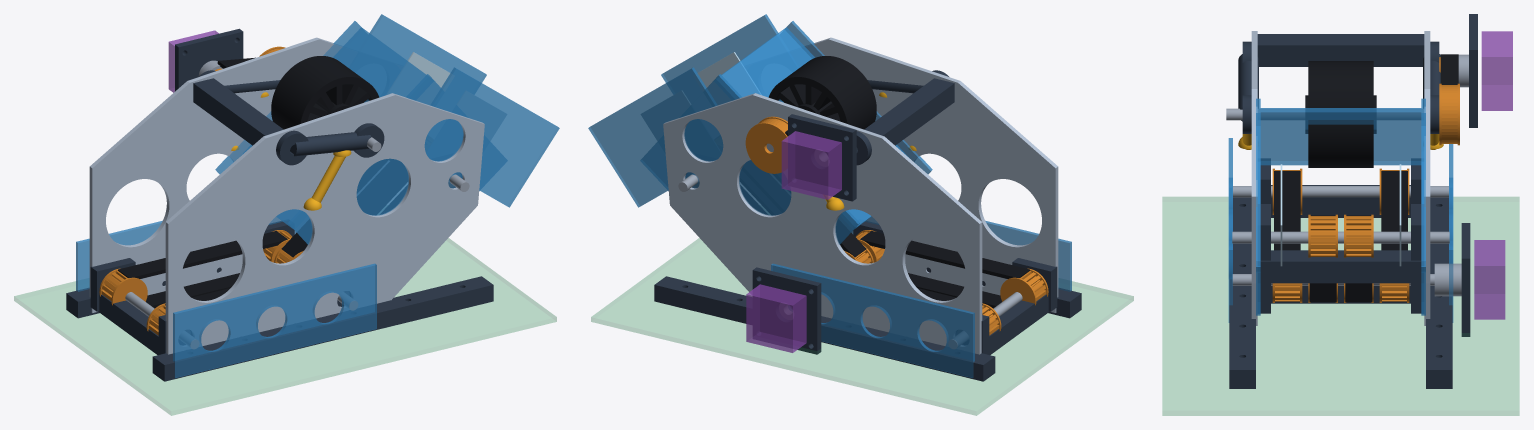
Rendered from continuous_servo_feeder.glb.
3 views of the same model, side by side, from view 1: azimuth 30°, elevation 25°; view 2: azimuth 150°, elevation 25°; view 3: azimuth 270°, elevation 25° (orthographic). The views are drawn at different scales.
Visible parts, largest first — view 1: side_frame_-1, 00_xy_chassis_reference, side_frame_+1, horizontal_belt_guard_-1, chassis_rail_-66, launcher_inlet_wall_-1, incline_guide_wall_-1, pinch_compliant_roller, incline_guide_roof, launcher_inlet_wall_+1, crossmember_-30_169, pinch_swing_arm_-1 (+17 smaller); view 2: side_frame_+1, 00_xy_chassis_reference, side_frame_-1, horizontal_belt_guard_+1, launcher_inlet_wall_+1, chassis_rail_+66, incline_guide_wall_+1, pinch_compliant_roller, belt_drive_servo_block_plate_1, pinch_drive_servo_block_plate_1, incline_guide_roof, pinch_drive_servo_envelope_0 (+18 smaller); view 3: 00_xy_chassis_reference, pinch_compliant_roller, incline_guide_roof, crossmember_-30_169, crossmember_136_86, chassis_rail_-66, chassis_rail_+66, belt_drive_servo_envelope_0, pinch_drive_servo_envelope_0, side_frame_-1, side_frame_+1, belt_horizontal_top_-36 (+34 smaller).
Boxes of the visible parts, <box> form: side_frame_-1: <box>165,93,484,354</box>; 00_xy_chassis_reference: <box>14,238,556,415</box>; side_frame_+1: <box>89,37,389,312</box>; horizontal_belt_guard_-1: <box>173,263,376,378</box>; chassis_rail_-66: <box>152,276,493,381</box>; launcher_inlet_wall_-1: <box>425,67,559,207</box>; incline_guide_wall_-1: <box>288,74,507,244</box>; pinch_compliant_roller: <box>271,56,379,129</box>; incline_guide_roof: <box>238,27,433,229</box>; launcher_inlet_wall_+1: <box>369,14,486,103</box>; crossmember_-30_169: <box>193,78,283,145</box>; pinch_swing_arm_-1: <box>276,123,384,165</box>; side_frame_+1: <box>663,93,982,354</box>; 00_xy_chassis_reference: <box>591,238,1133,415</box>; side_frame_-1: <box>771,37,1058,312</box>; horizontal_belt_guard_+1: <box>771,263,974,378</box>; launcher_inlet_wall_+1: <box>588,67,722,207</box>; chassis_rail_+66: <box>654,276,995,381</box>; incline_guide_wall_+1: <box>640,74,859,244</box>; pinch_compliant_roller: <box>768,56,876,129</box>; belt_drive_servo_block_plate_1: <box>752,267,821,354</box>; pinch_drive_servo_block_plate_1: <box>788,114,856,201</box>; incline_guide_roof: <box>714,27,907,229</box>; pinch_drive_servo_envelope_0: <box>781,131,841,199</box>; 00_xy_chassis_reference: <box>1162,197,1519,415</box>; pinch_compliant_roller: <box>1305,61,1376,167</box>; incline_guide_roof: <box>1260,108,1421,165</box>; crossmember_-30_169: <box>1257,34,1424,66</box>; crossmember_136_86: <box>1258,250,1423,283</box>; chassis_rail_-66: <box>1229,197,1255,388</box>; chassis_rail_+66: <box>1426,197,1452,388</box>; belt_drive_servo_envelope_0: <box>1474,240,1505,319</box>; pinch_drive_servo_envelope_0: <box>1481,31,1512,110</box>; side_frame_-1: <box>1251,31,1257,325</box>; side_frame_+1: <box>1424,31,1430,325</box>; belt_horizontal_top_-36: <box>1274,171,1300,250</box>.
Bounding box in the file's own units: 379 × 200 × 240.
